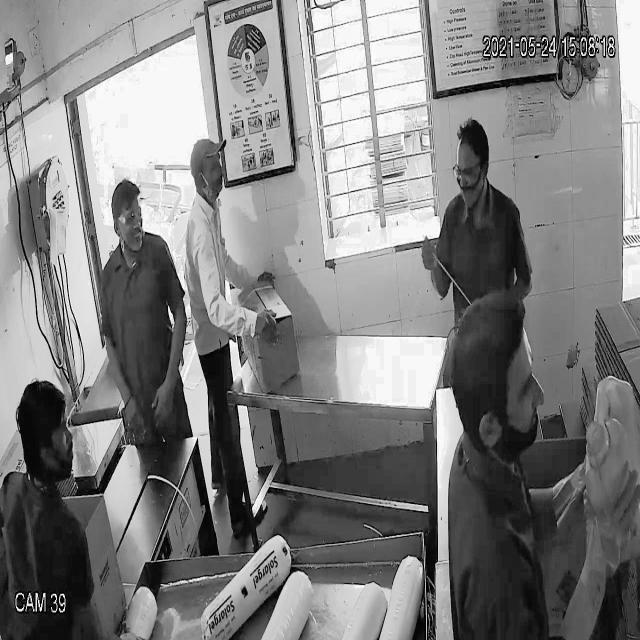glasses: (451, 156, 485, 188), (110, 199, 144, 231)
